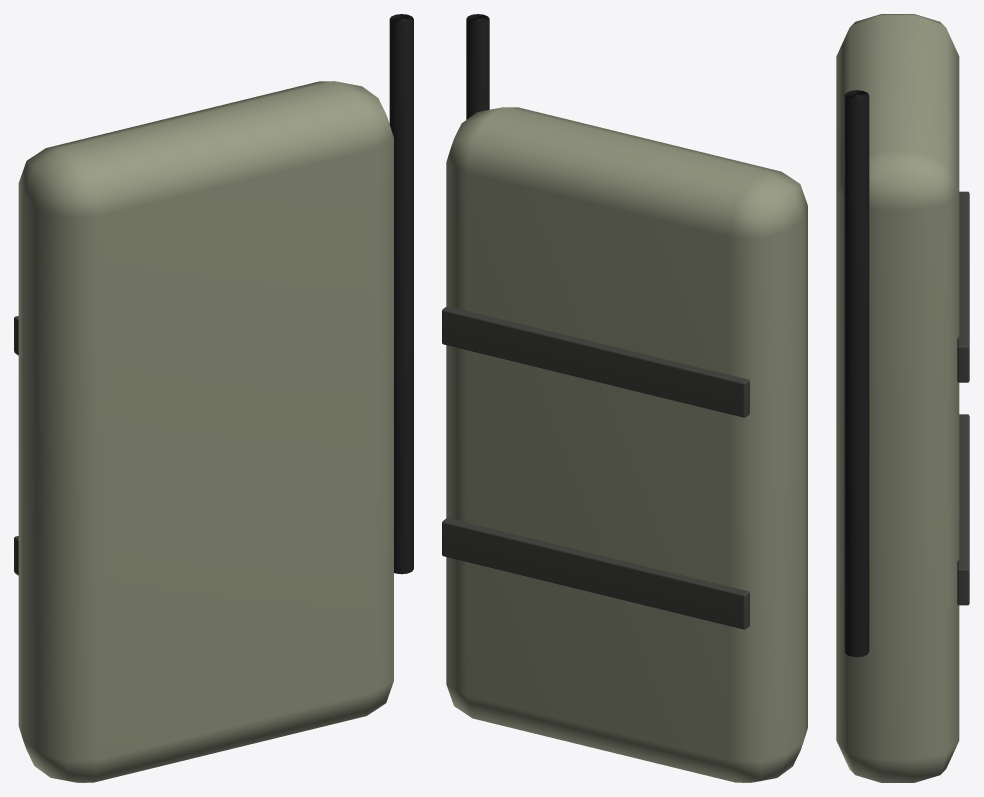
The model's file is backpack_hydro_T.glb.
3 views of the same model, side by side, from view 1: azimuth 30°, elevation 25°; view 2: azimuth 150°, elevation 25°; view 3: azimuth 270°, elevation 25° (orthographic). The views are drawn at different scales.
Parts seen in each view (by area): view 1: pack@Chest; view 2: pack@Chest; view 3: pack@Chest.
Part boxes in pixels (x1,y1,x2,y2): pack@Chest: (14,14,413,782); pack@Chest: (442,14,807,782); pack@Chest: (836,14,969,782).
Bounding box in the file's own units: 0.206 × 0.38 × 0.065.
